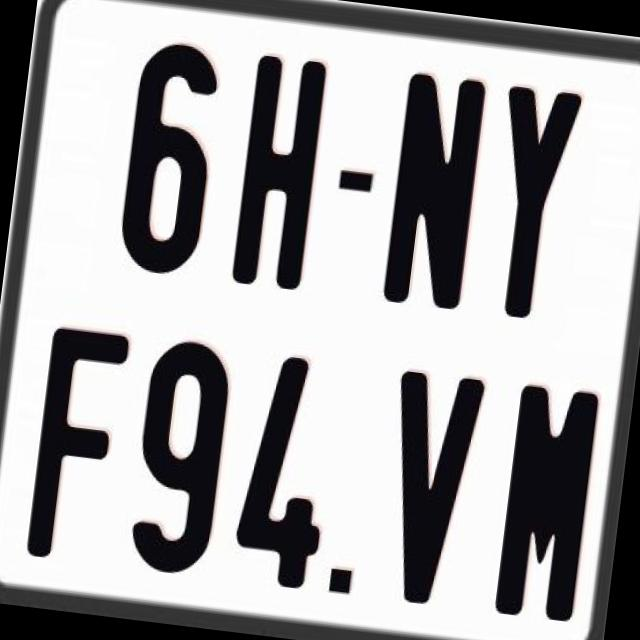4: (228, 351, 344, 598)
6: (112, 34, 220, 278)
9: (126, 332, 240, 580)
F: (20, 324, 126, 567)
H: (227, 51, 324, 286)
M: (492, 380, 600, 620)
N: (381, 70, 488, 308)
V: (372, 366, 490, 612)
Y: (480, 85, 580, 326)
